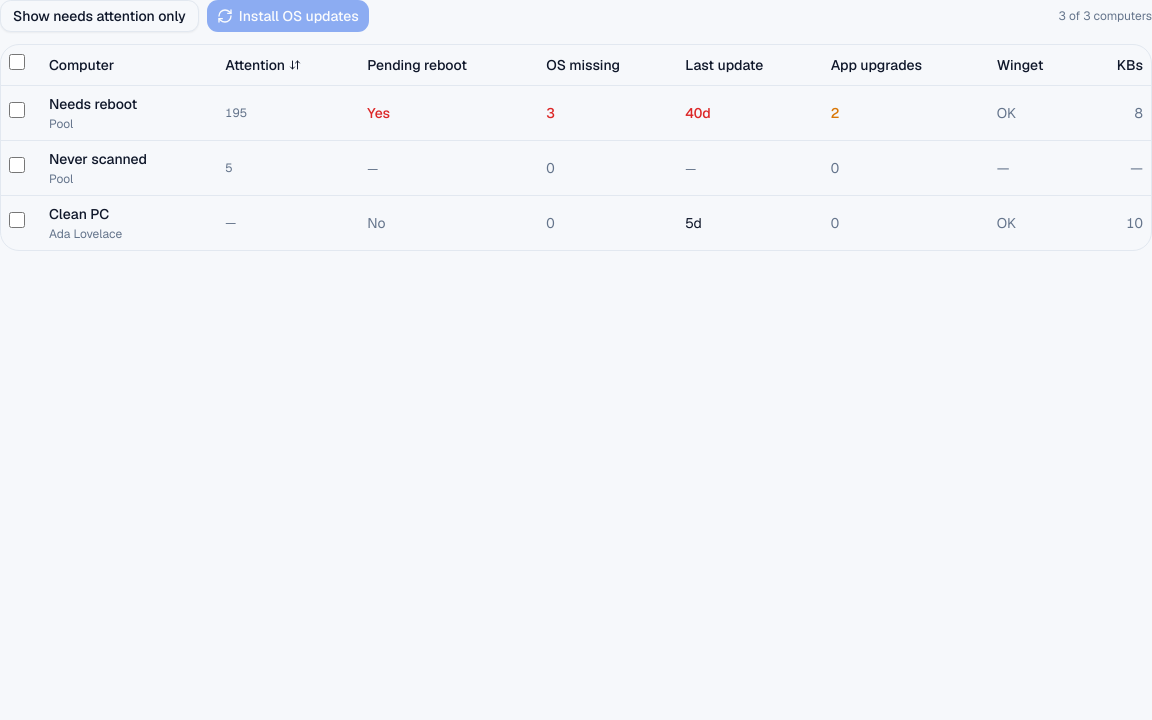
PatchesFleet › confirm copy mentions OS updates and no reboot
Click the checkbox named "Select Needs reboot" at (17, 110), box [9,102,25,118]
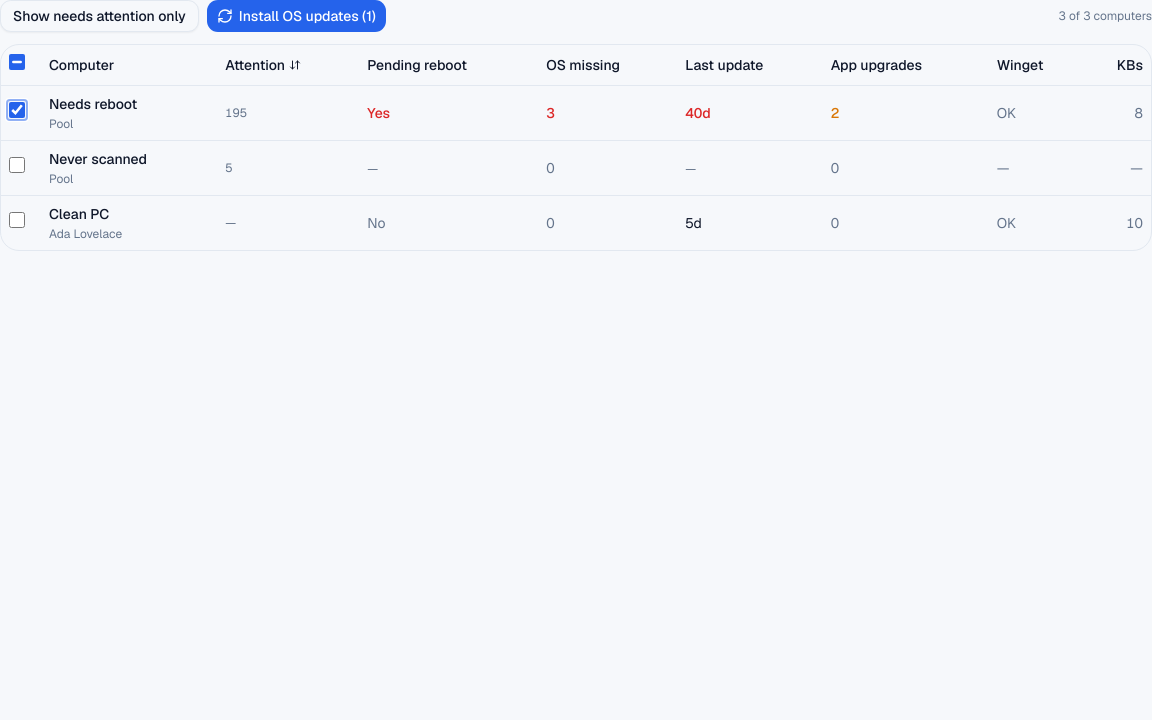
Click the button "Install OS updates (1)" at (296, 16), box [207,0,386,32]
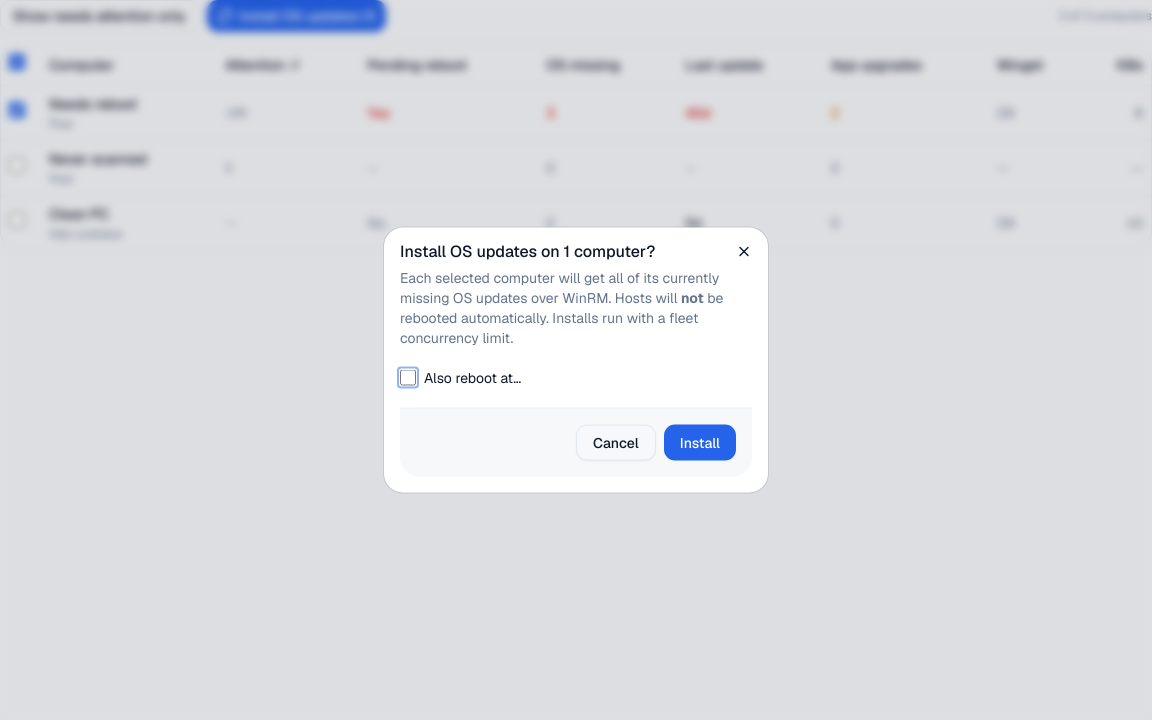
Check: the heading "Install OS updates on 1 computer?" is shown, box [400,240,655,262]
Check: the text "missing OS updates" is shown, box [400,268,719,306]
Check: the text "missing OS updates" shows "not", box [681,288,704,306]
